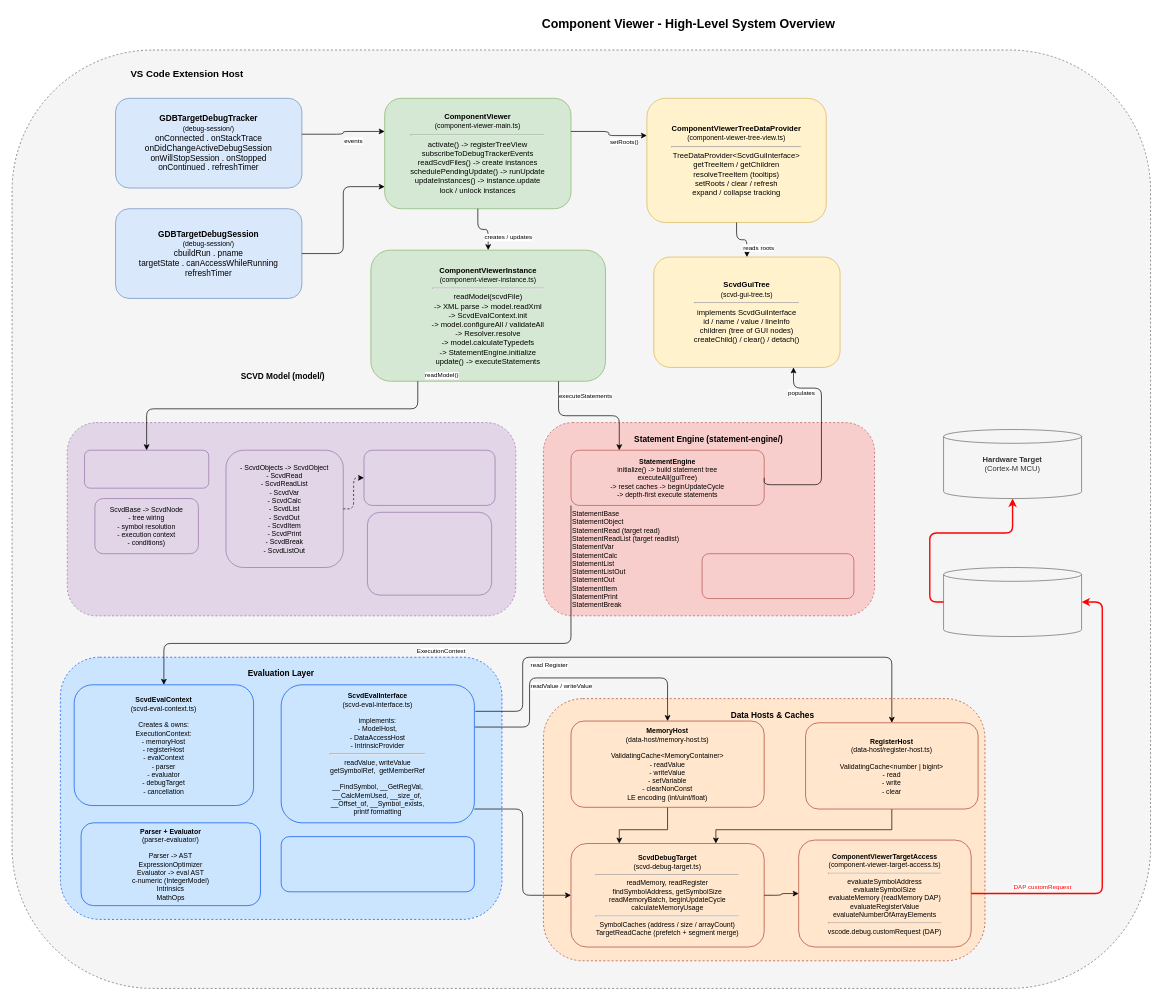
This 1163x1001 diagram has some shape labels left out. Here are the shapes that lost their labels. From the top down, the box of each, then its label:
(84, 450, 209, 488): ScvdComponentViewer (root model)
(363, 450, 495, 505): Resolver (resolver.ts) ScvdTypesCache resolve types & link refs
(367, 512, 492, 595): ScvdTypedefs -> ScvdTypedef - ScvdMember - ScvdSymbol - ScvdEnum - ScvdDataType
(701, 553, 854, 599): ExecutionCancellation 10s deadline . cancel(reason) checkDeadline() in loops
(943, 567, 1082, 637): GDB / Debug Adapter (CDT) DAP Protocol
(280, 836, 474, 892): ScvdEvalInterfaceCache symbolRef, memberRef byteWidth, memberOffset, printf
